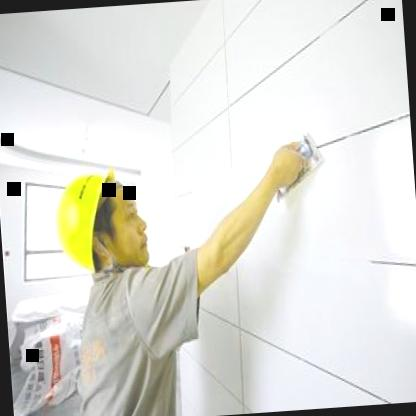helmet: (41, 160, 160, 292)
